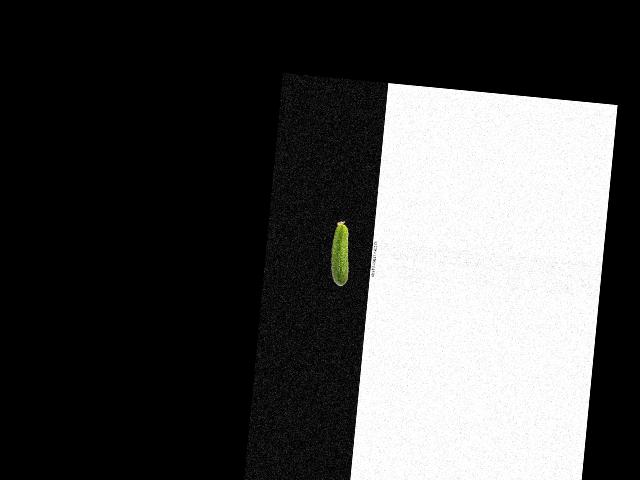cucumber: (328, 220, 353, 286)
